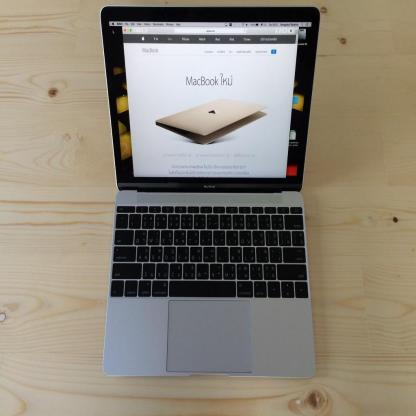board: (89, 0, 322, 392), (156, 100, 268, 145)
